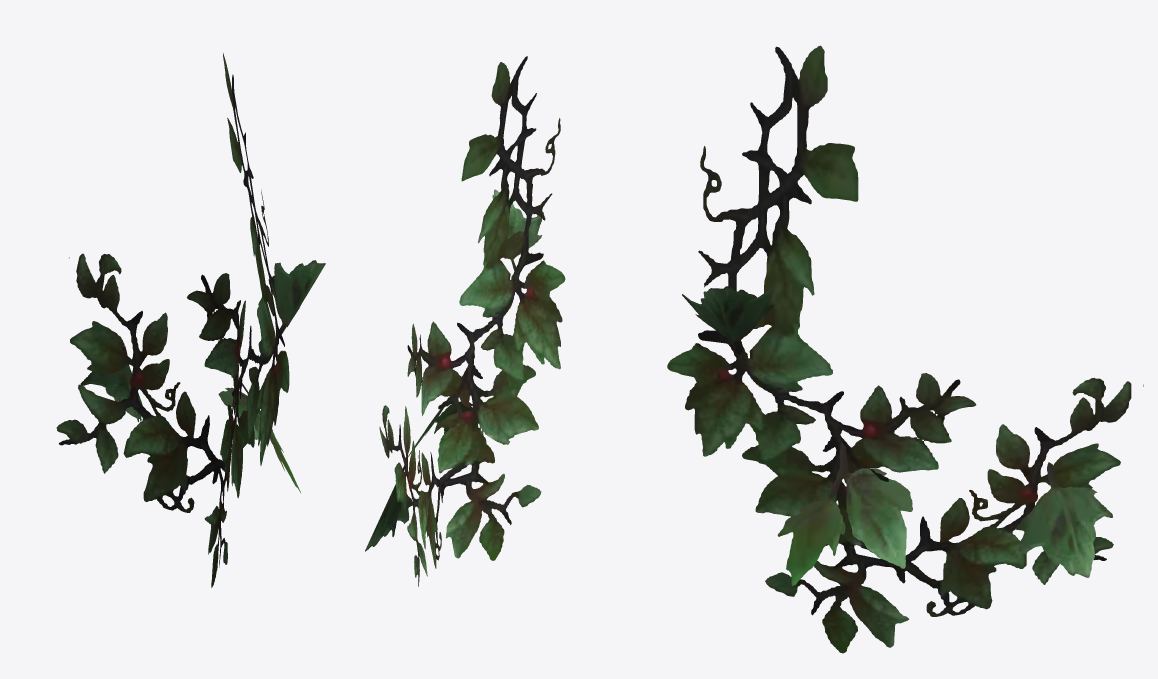
The picture shows the model from 3 angles, left to right: view 1: azimuth 30°, elevation 25°; view 2: azimuth 150°, elevation 25°; view 3: azimuth 270°, elevation 25°; orthographic projection. The views are drawn at different scales.
Bounding box in the file's own units: 1.88 × 6.1 × 4.35.
Materials: 1 (1 with a texture image).
